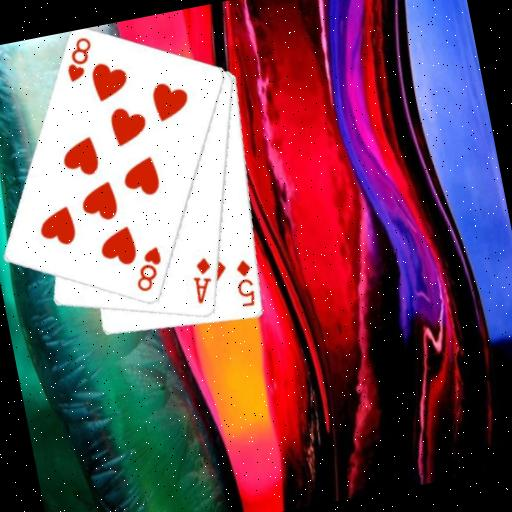5D: (229, 256, 260, 310)
8H: (127, 243, 169, 296), (58, 33, 99, 85)
AD: (186, 253, 219, 306)
